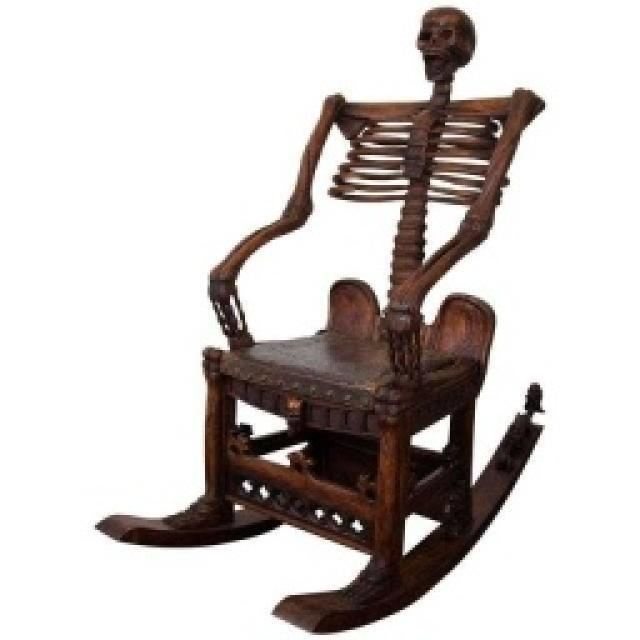sandalye: (92, 5, 548, 633)
